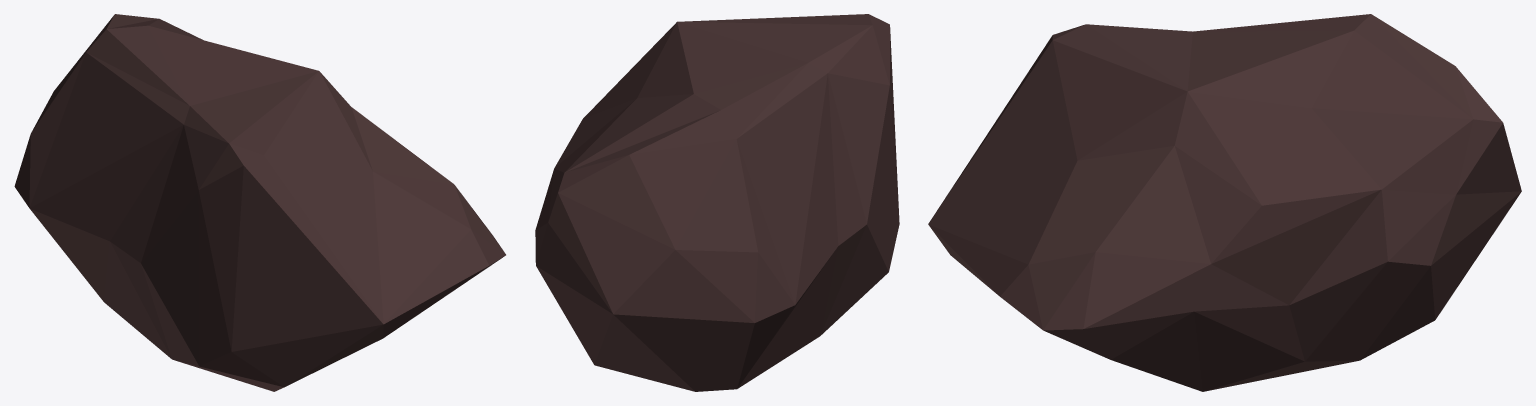
File: Recolor_Rock_3.fbx
3 views of the same model, side by side, from view 1: azimuth 30°, elevation 25°; view 2: azimuth 150°, elevation 25°; view 3: azimuth 270°, elevation 25° (orthographic). The views are drawn at different scales.
Visible parts, largest first — view 1: Rock_Div_3; view 2: Rock_Div_3; view 3: Rock_Div_3.
Boxes of the visible parts, bbox=[...] form: Rock_Div_3: bbox=[14, 14, 505, 391]; Rock_Div_3: bbox=[535, 14, 899, 391]; Rock_Div_3: bbox=[928, 14, 1521, 391].
Size of the model in its own units: 11.14 by 9.4 by 16.36.
